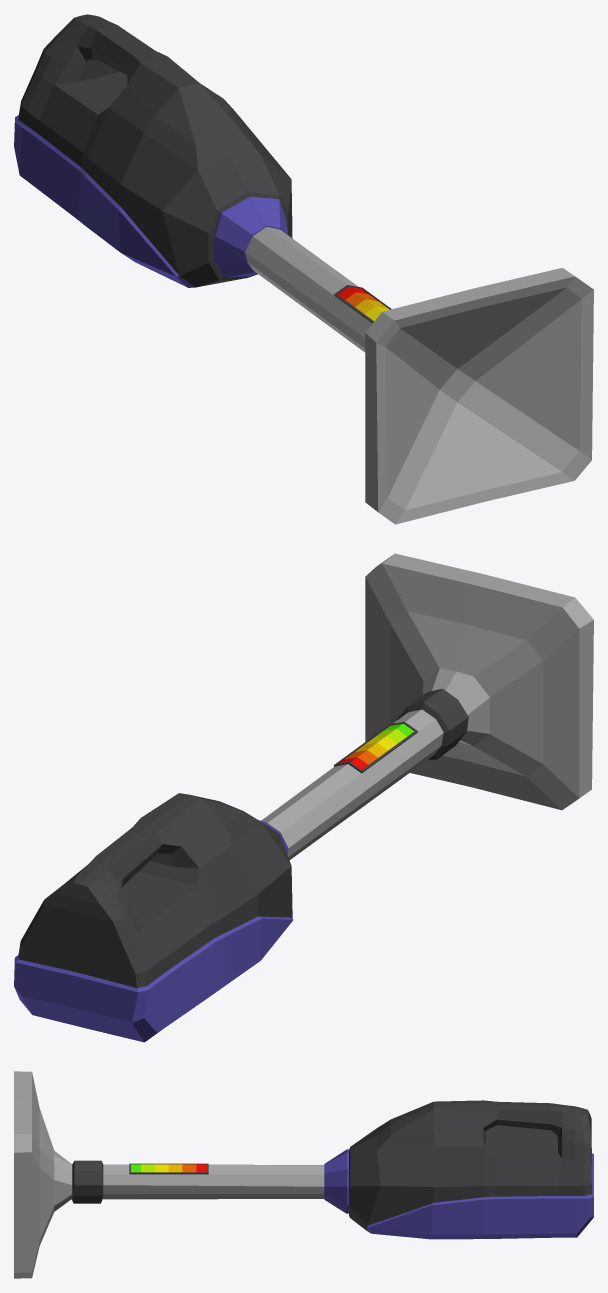
Rendered from Aspirateur_compteur.fbx.
3 renders of one model, top to bottom at view 1: azimuth 30°, elevation 25°; view 2: azimuth 150°, elevation 25°; view 3: azimuth 270°, elevation 25°, orthographic. The views are drawn at different scales.
Parts seen in each view (by area): view 1: Aspirateur, Compteur; view 2: Aspirateur, Compteur; view 3: Aspirateur, Compteur.
Part boxes in pixels (x1,y1,x2,y2): Aspirateur: (14, 14, 593, 524); Compteur: (333, 285, 391, 323); Aspirateur: (14, 553, 593, 1042); Compteur: (334, 722, 417, 773); Aspirateur: (14, 1071, 593, 1278); Compteur: (129, 1163, 208, 1174).
Bounding box in the file's own units: 37.49 × 33.78 × 122.
